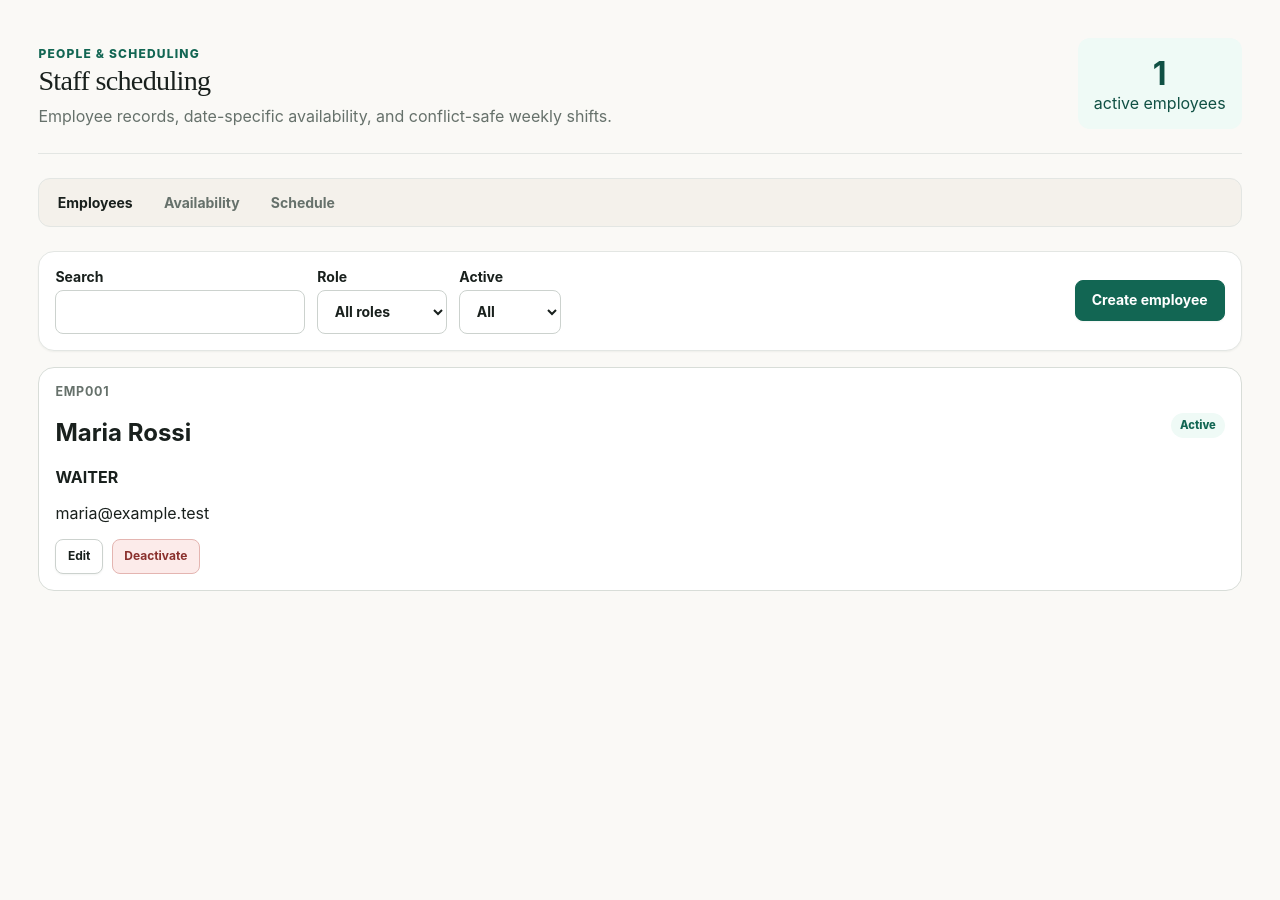
staff page › uses the shared modal focus behavior for employee dialogs
The width and height of the screenshot is (1280, 900).
Expected: the heading "Maria Rossi" is shown, [55,418,191,448]
Click the button "Create employee" at x=1150, y=301, box [1075,280,1225,321]
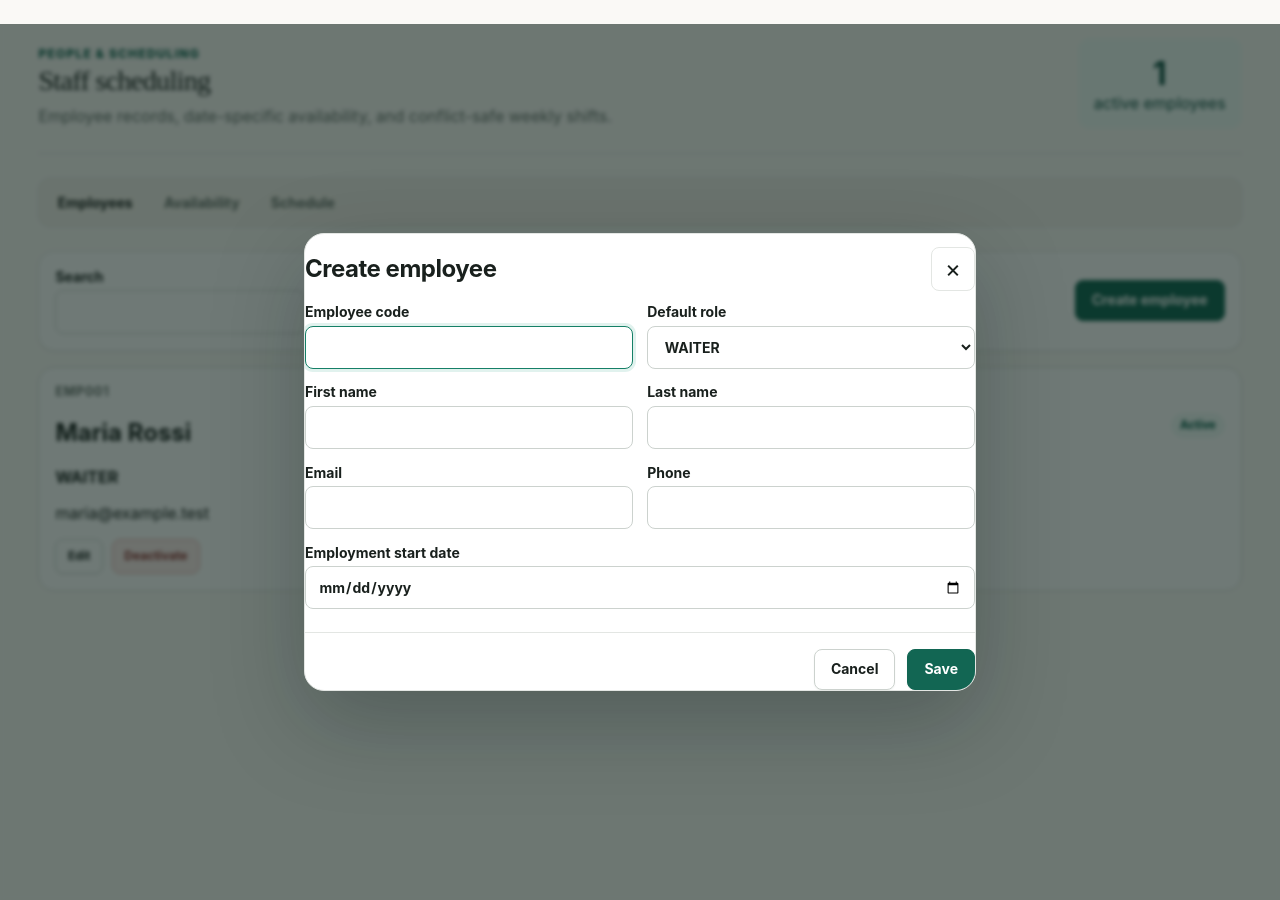
Press Escape
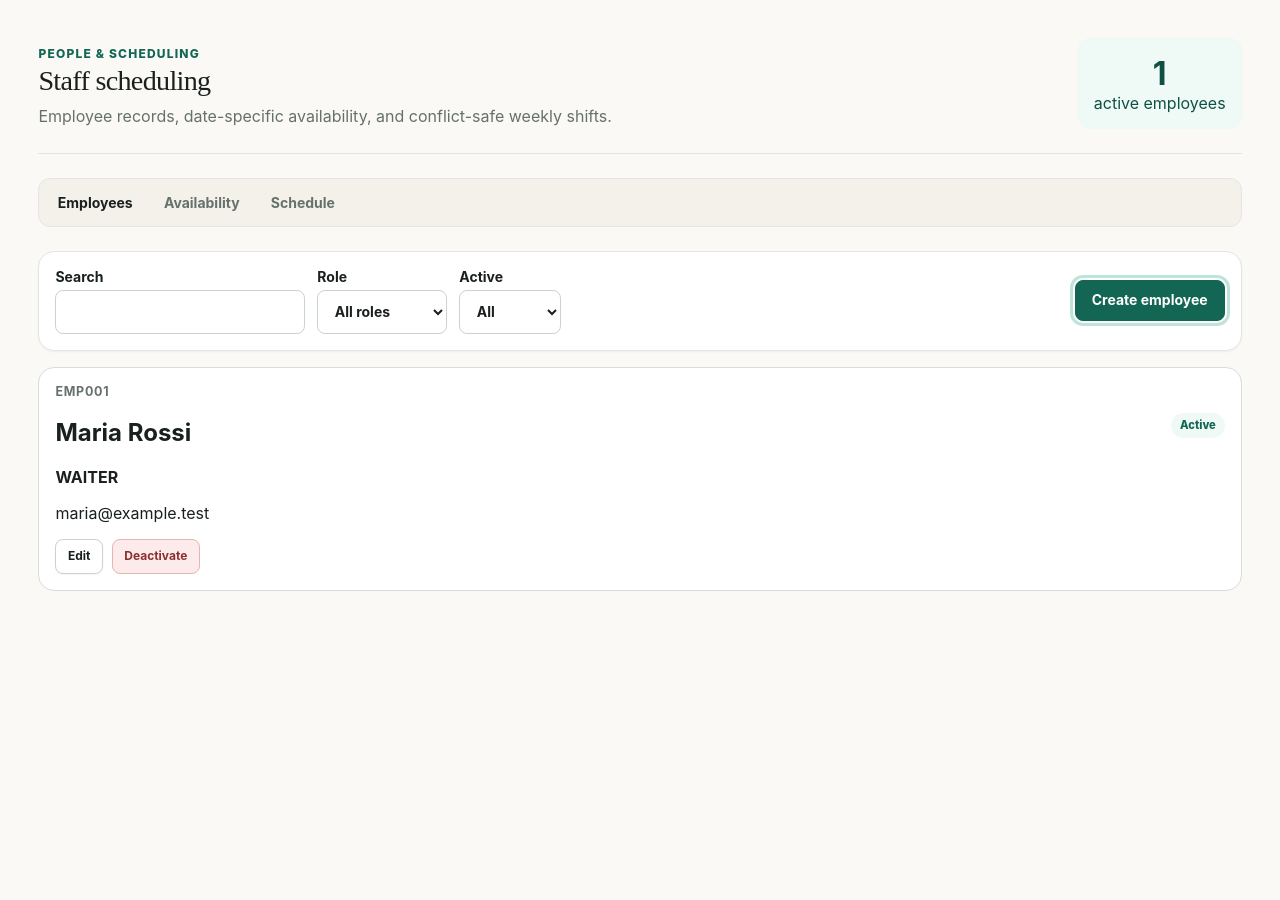
Result: the dialog is gone
